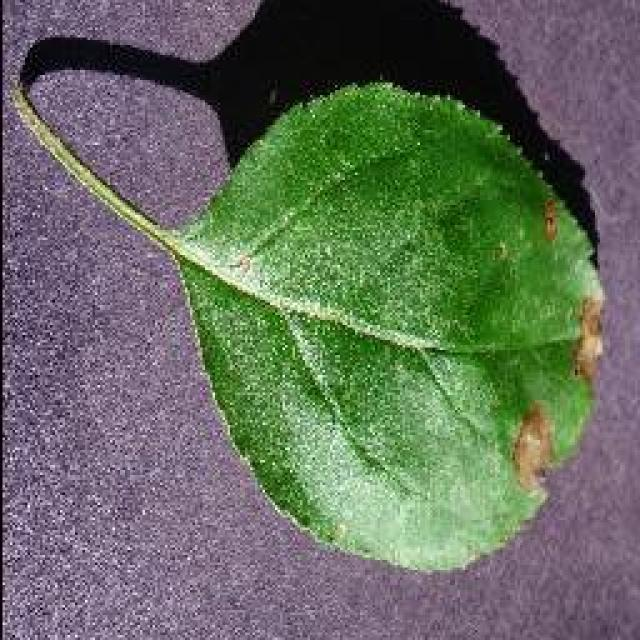Black_rot: (10, 3, 608, 575)
